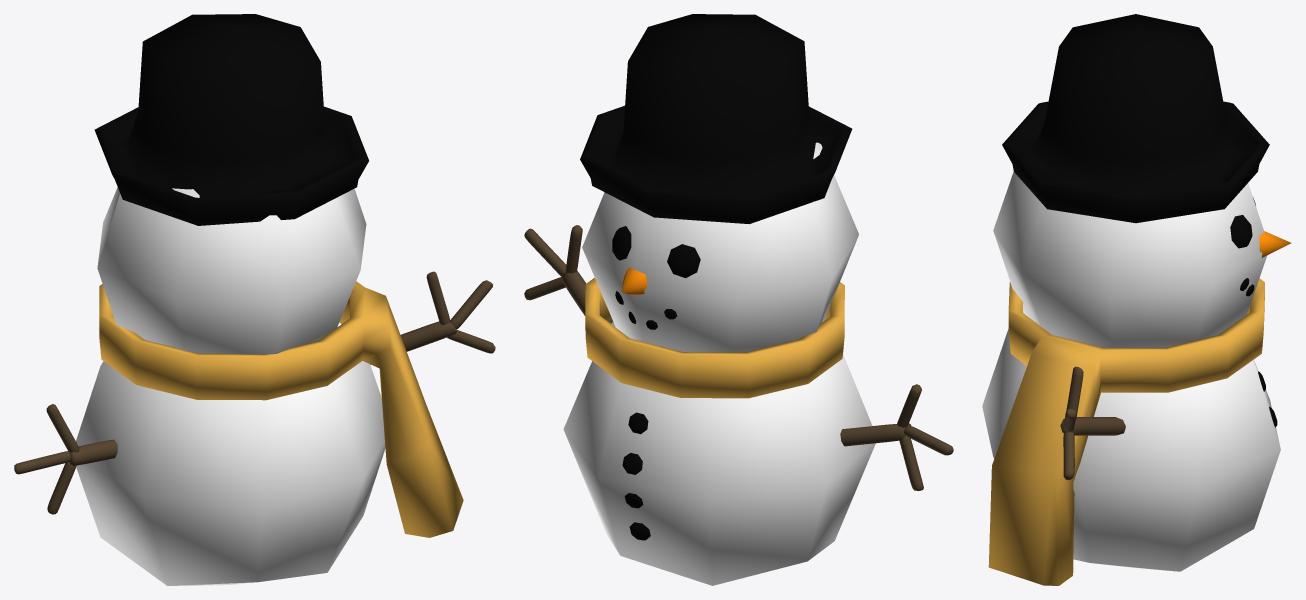
Rendered from MuñecoNieve.fbx.
The picture shows the model from 3 angles, left to right: view 1: azimuth 30°, elevation 25°; view 2: azimuth 150°, elevation 25°; view 3: azimuth 270°, elevation 25°; orthographic projection. The views are drawn at different scales.
Visible parts, largest first — view 1: MuñecoDeNieveMalo, ManosMuñecoMalo; view 2: MuñecoDeNieveMalo, ManosMuñecoMalo; view 3: MuñecoDeNieveMalo, ManosMuñecoMalo.
Part boxes in pixels (bbox=[...]): MuñecoDeNieveMalo: bbox=[76, 14, 463, 585]; ManosMuñecoMalo: bbox=[14, 271, 495, 514]; MuñecoDeNieveMalo: bbox=[563, 14, 875, 585]; ManosMuñecoMalo: bbox=[524, 225, 953, 490]; MuñecoDeNieveMalo: bbox=[982, 14, 1291, 585]; ManosMuñecoMalo: bbox=[1060, 366, 1125, 480].
Bounding box in the file's own units: 278 × 324 × 169.
